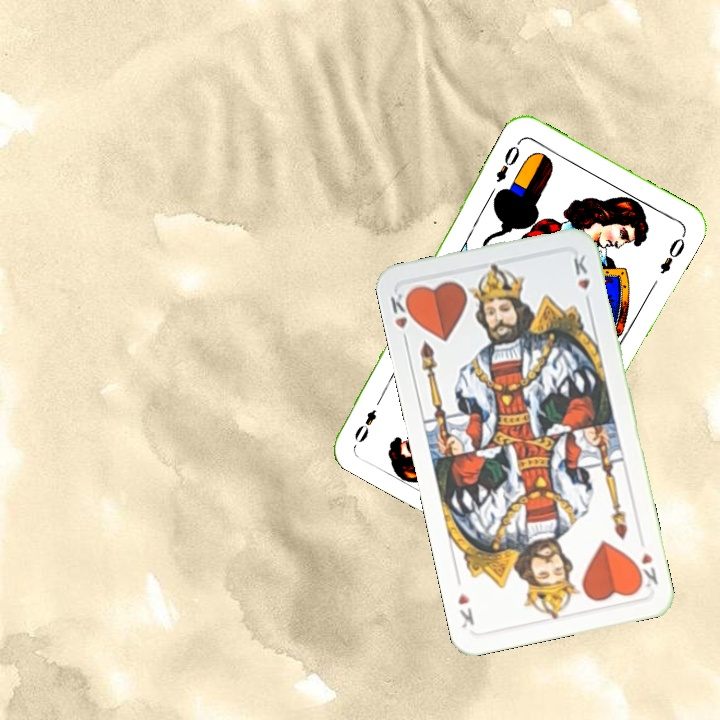EO: (491, 141, 523, 186)
HK: (386, 289, 418, 348), (637, 548, 661, 590)
